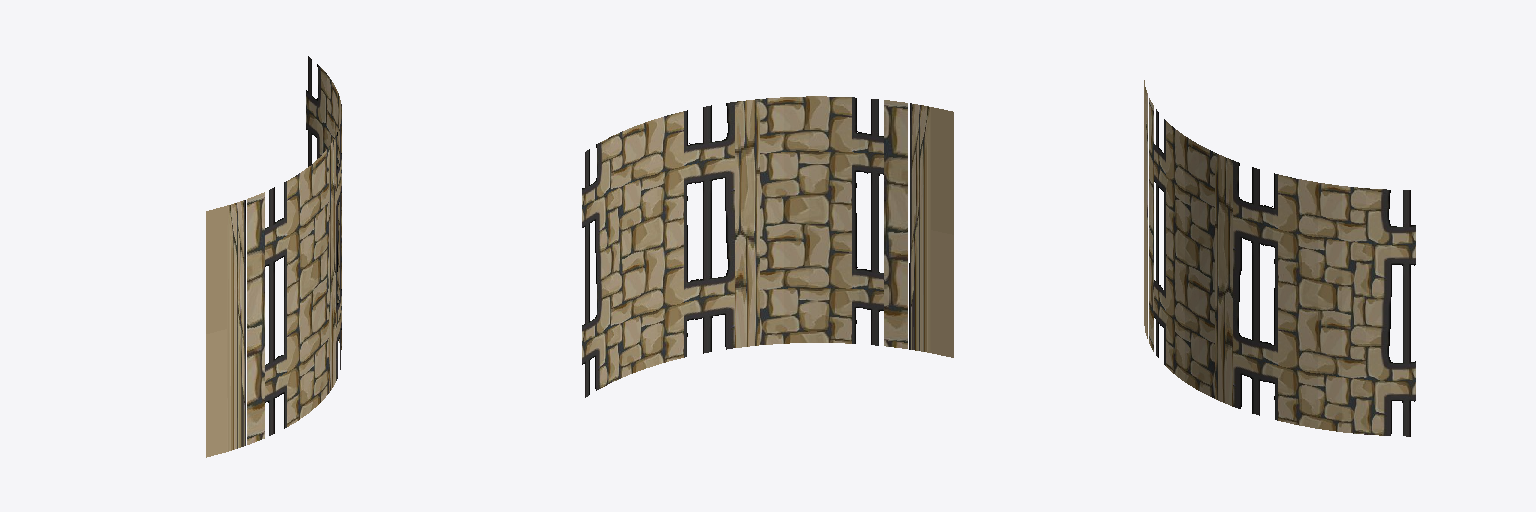
3 views of the same model, side by side, from view 1: azimuth 30°, elevation 25°; view 2: azimuth 150°, elevation 25°; view 3: azimuth 270°, elevation 25° (orthographic).
Visible parts, largest first — view 1: Cube; view 2: Cube; view 3: Cube.
Part boxes in pixels (x1,y1,x2,y2): Cube: (206, 56, 341, 457); Cube: (582, 96, 953, 397); Cube: (1144, 80, 1415, 436).
Size of the model in its own units: 2 by 2 by 2.
1 materials, 1 textured.